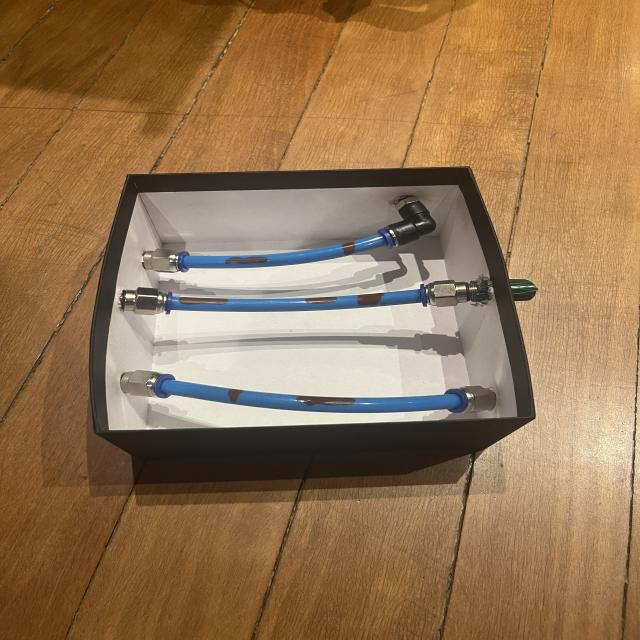hose_damage: (294, 393, 357, 408), (177, 295, 230, 307), (356, 293, 386, 306), (223, 256, 270, 264), (303, 296, 339, 305), (227, 387, 244, 403), (340, 241, 358, 256)
